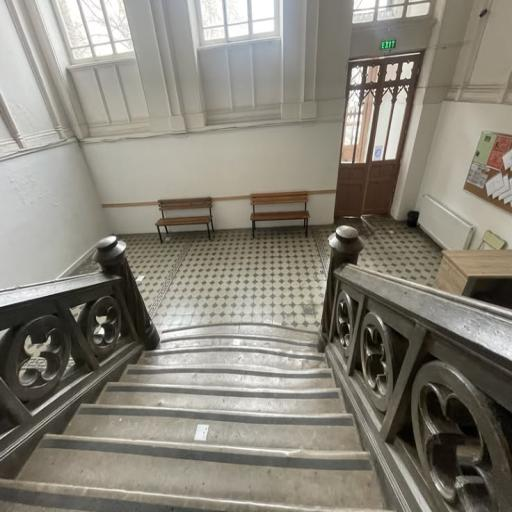corridor: (335, 53, 421, 217)
sofa: (0, 326, 382, 511)
stroller: (435, 251, 511, 308)
trash_bin: (251, 192, 309, 237), (156, 198, 214, 242)
